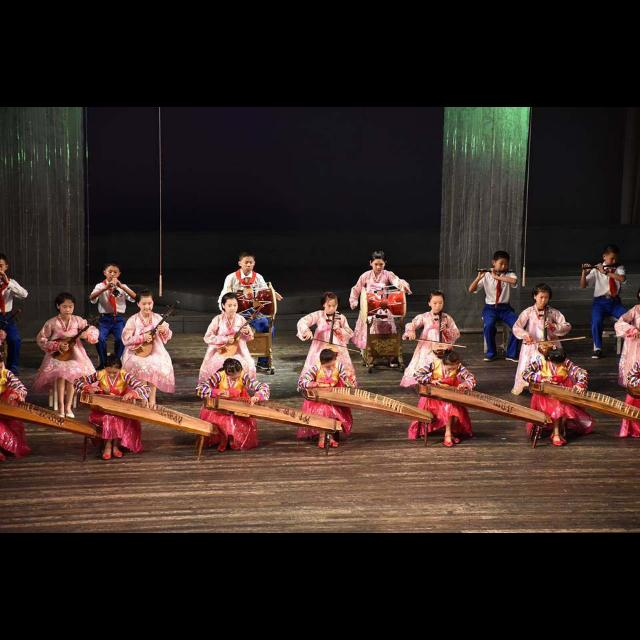head: (56, 292, 76, 318), (442, 350, 462, 374), (104, 354, 122, 380), (492, 250, 511, 274), (136, 292, 156, 314), (320, 348, 338, 372), (322, 292, 340, 316), (427, 290, 445, 314), (224, 359, 243, 381), (602, 246, 620, 268), (533, 286, 551, 308), (222, 294, 240, 316), (370, 252, 388, 274), (238, 252, 256, 274), (548, 348, 568, 367), (104, 263, 122, 283), (0, 254, 10, 278), (0, 356, 8, 376)
person: (29, 291, 101, 421), (72, 352, 152, 462), (520, 343, 600, 452), (112, 288, 178, 416), (216, 248, 284, 372), (347, 250, 415, 370), (294, 290, 360, 410), (508, 281, 574, 399), (194, 291, 258, 411), (194, 356, 272, 454), (406, 348, 478, 450), (398, 288, 462, 402), (466, 248, 526, 366), (577, 244, 635, 362), (294, 348, 358, 452), (86, 256, 142, 374), (0, 250, 30, 379), (1, 349, 34, 466)
